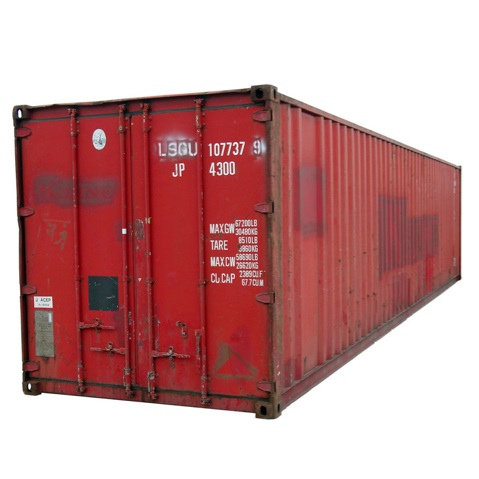container_door: (11, 101, 280, 421)
